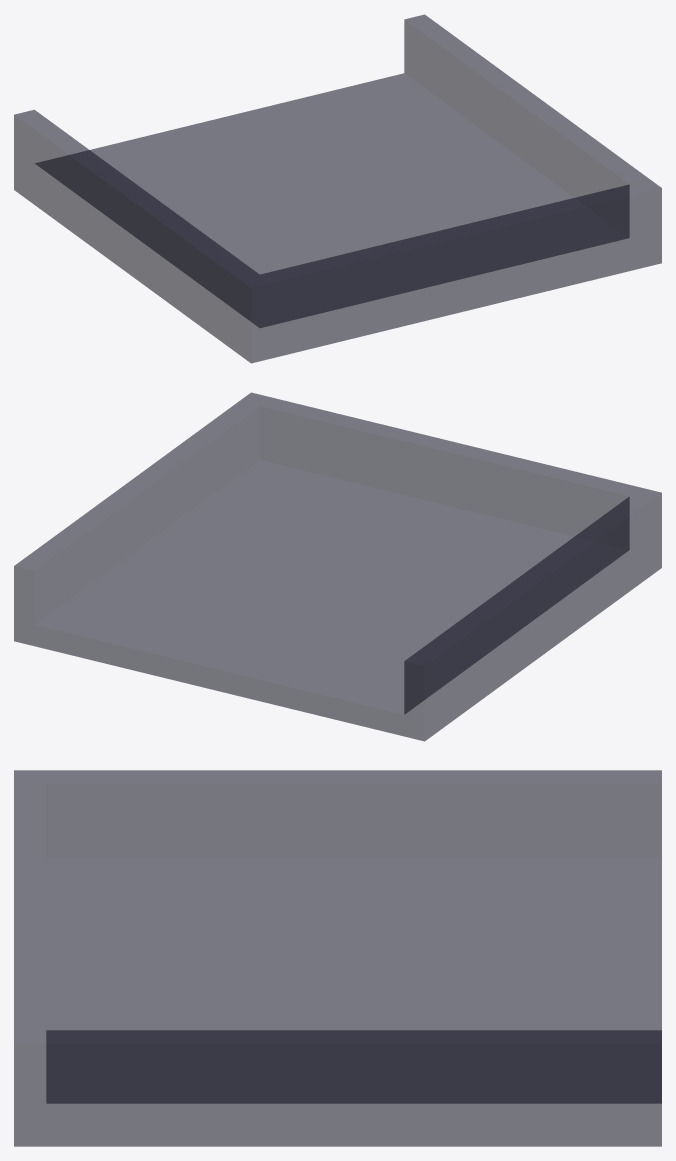
The model's file is GlassRoof_3Edges.glb.
3 views of the same model, one above another, from view 1: azimuth 30°, elevation 25°; view 2: azimuth 150°, elevation 25°; view 3: azimuth 270°, elevation 25° (orthographic). The views are drawn at different scales.
Visible parts, largest first — view 1: roof_flat_3Edges_glass; view 2: roof_flat_3Edges_glass; view 3: roof_flat_3Edges_glass.
Part boxes in pixels (left/top/right/bottom): roof_flat_3Edges_glass: left=14, top=14, right=661, bottom=363; roof_flat_3Edges_glass: left=14, top=392, right=661, bottom=741; roof_flat_3Edges_glass: left=14, top=770, right=661, bottom=1146.
Size of what is drawn, in the model's own units: 4 by 0.7 by 4.
Materials: 1 (1 with a texture image).
